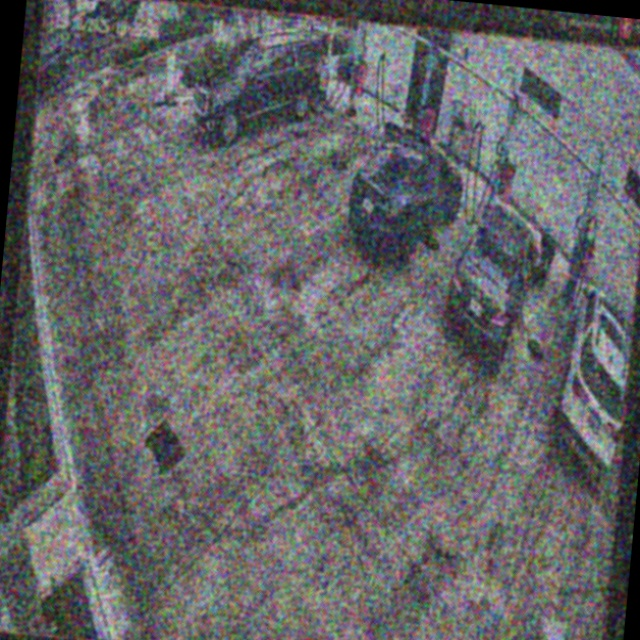Car: (346, 124, 466, 260), (443, 198, 542, 361)
